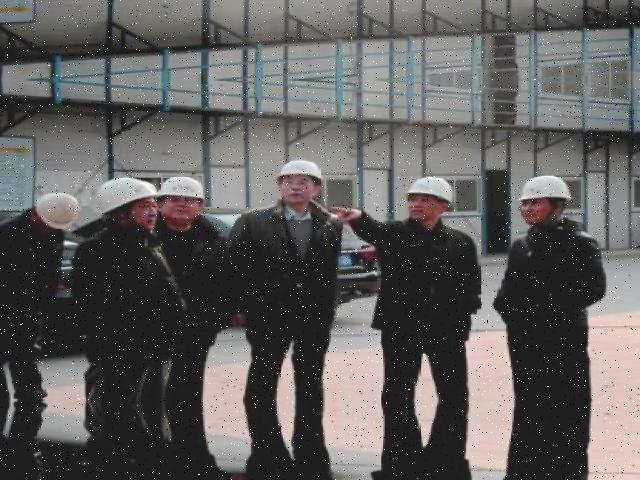Helmet: (89, 171, 159, 215), (513, 170, 577, 206), (30, 187, 81, 231), (400, 172, 455, 208), (271, 154, 325, 186), (153, 172, 205, 204)
